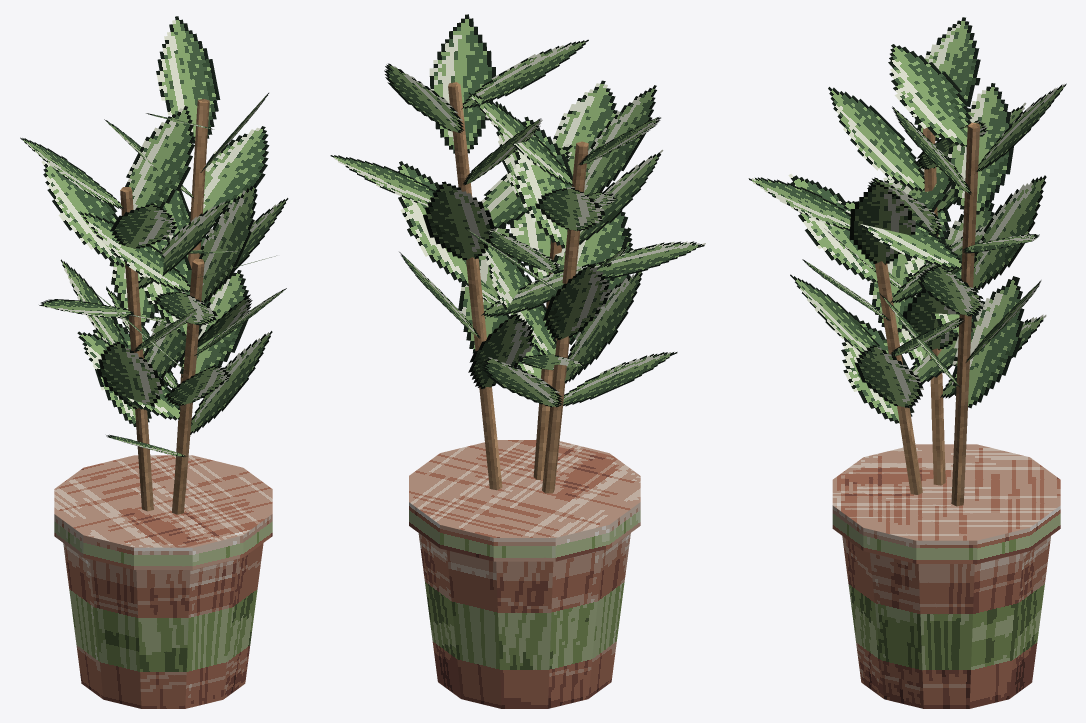
File: plant_floor.glb
3 renders of one model, left to right at view 1: azimuth 30°, elevation 25°; view 2: azimuth 150°, elevation 25°; view 3: azimuth 270°, elevation 25°, orthographic. The views are drawn at different scales.
Visible parts, largest first — view 1: pot, lip, leaf_22, leaf_10, leaf_19, leaf_33, leaf_8, leaf_1, stem_2, stem, leaf_34, leaf_28 (+20 smaller); view 2: pot, lip, leaf_21, leaf_17, stem_1, leaf_9, stem, leaf_3, leaf_1, leaf_7, leaf_35, leaf_2 (+22 smaller); view 3: pot, lip, leaf_23, stem_1, leaf_12, leaf_9, leaf_20, leaf_17, leaf_33, leaf_11, leaf_32, leaf_25 (+23 smaller).
Boxes of the visible parts, x1=… form: pot: x1=63, y1=543, x2=263, y2=708; lip: x1=54, y1=455, x2=272, y2=569; leaf_22: x1=156, y1=16, x2=220, y2=143; leaf_10: x1=125, y1=106, x2=195, y2=210; leaf_19: x1=190, y1=126, x2=269, y2=213; leaf_33: x1=199, y1=184, x2=257, y2=302; leaf_8: x1=41, y1=160, x2=125, y2=267; leaf_1: x1=97, y1=341, x2=164, y2=409; stem_2: x1=172, y1=258, x2=204, y2=514; stem: x1=120, y1=187, x2=153, y2=511; leaf_34: x1=80, y1=212, x2=191, y2=292; leaf_28: x1=179, y1=270, x2=248, y2=377; pot: x1=418, y1=533, x2=630, y2=708; lip: x1=409, y1=440, x2=640, y2=561; leaf_21: x1=429, y1=14, x2=495, y2=153; leaf_17: x1=423, y1=181, x2=495, y2=260; stem_1: x1=448, y1=82, x2=502, y2=490; leaf_9: x1=584, y1=85, x2=656, y2=194; stem: x1=542, y1=141, x2=588, y2=493; leaf_3: x1=543, y1=264, x2=610, y2=340; leaf_1: x1=564, y1=271, x2=642, y2=383; leaf_7: x1=513, y1=116, x2=579, y2=248; leaf_35: x1=552, y1=80, x2=617, y2=175; leaf_2: x1=485, y1=243, x2=556, y2=354; pot: x1=842, y1=536, x2=1050, y2=708; lip: x1=832, y1=444, x2=1060, y2=563; leaf_23: x1=888, y1=44, x2=971, y2=146; stem_1: x1=951, y1=122, x2=979, y2=506; leaf_12: x1=952, y1=276, x2=1024, y2=408; leaf_9: x1=828, y1=87, x2=924, y2=191; leaf_20: x1=947, y1=83, x2=1013, y2=214; leaf_17: x1=973, y1=175, x2=1046, y2=290; leaf_33: x1=849, y1=182, x2=915, y2=264; leaf_11: x1=912, y1=17, x2=980, y2=141; leaf_32: x1=788, y1=174, x2=877, y2=283; leaf_25: x1=854, y1=345, x2=923, y2=407.
Bounding box in the file's own units: 1.02 × 1.88 × 0.8902.
2 materials, 2 textured.
